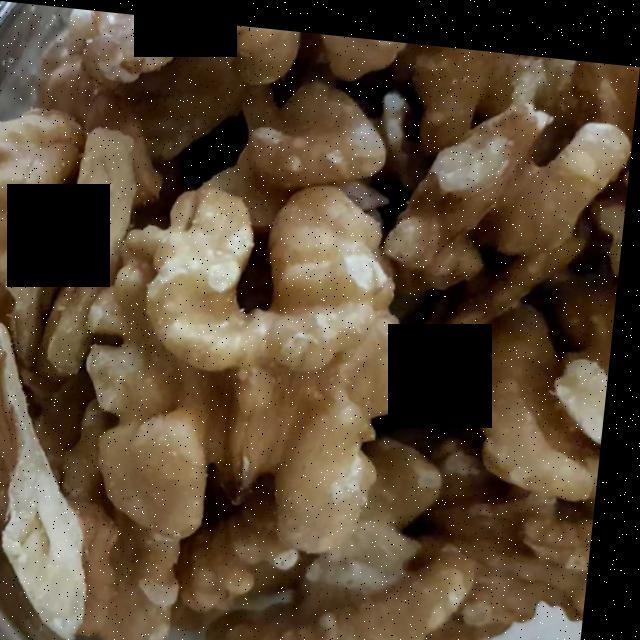walnut: (0, 9, 614, 640)
